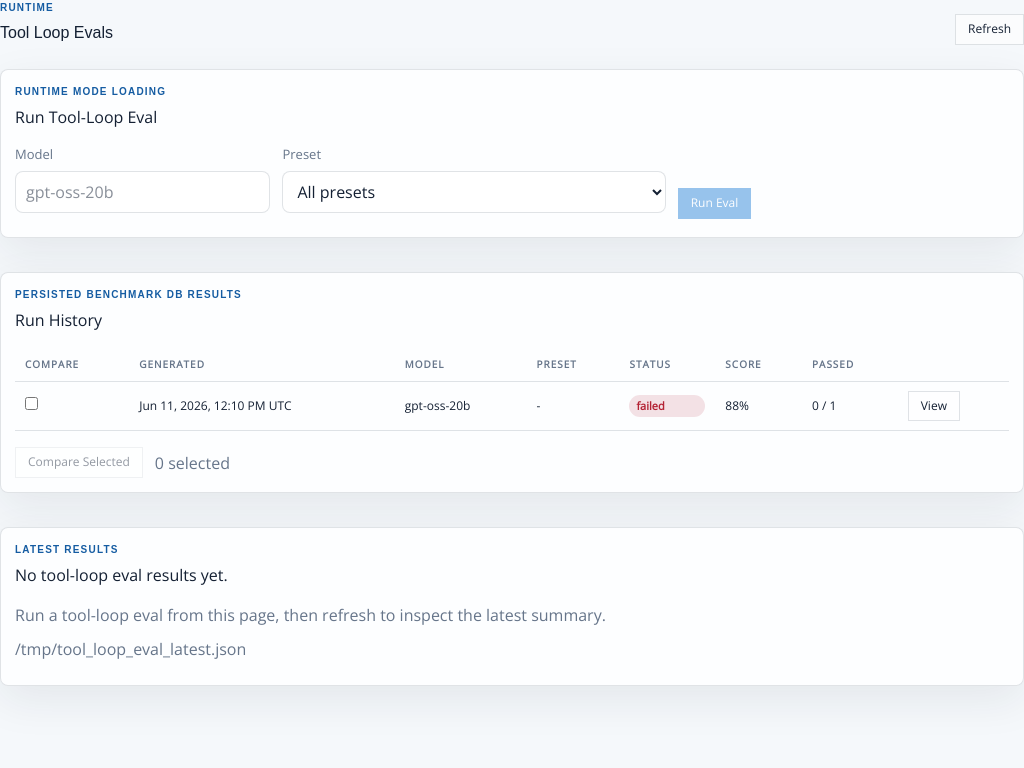
Test case: renders required tool and artifact diagnostics for persisted run cases
The image size is (1024, 768).
Step 1. Click the button with aria-label "View run gpt-oss-20b" → (934, 406), box x1=908 y1=390 x2=960 y2=421
(page scrolled)
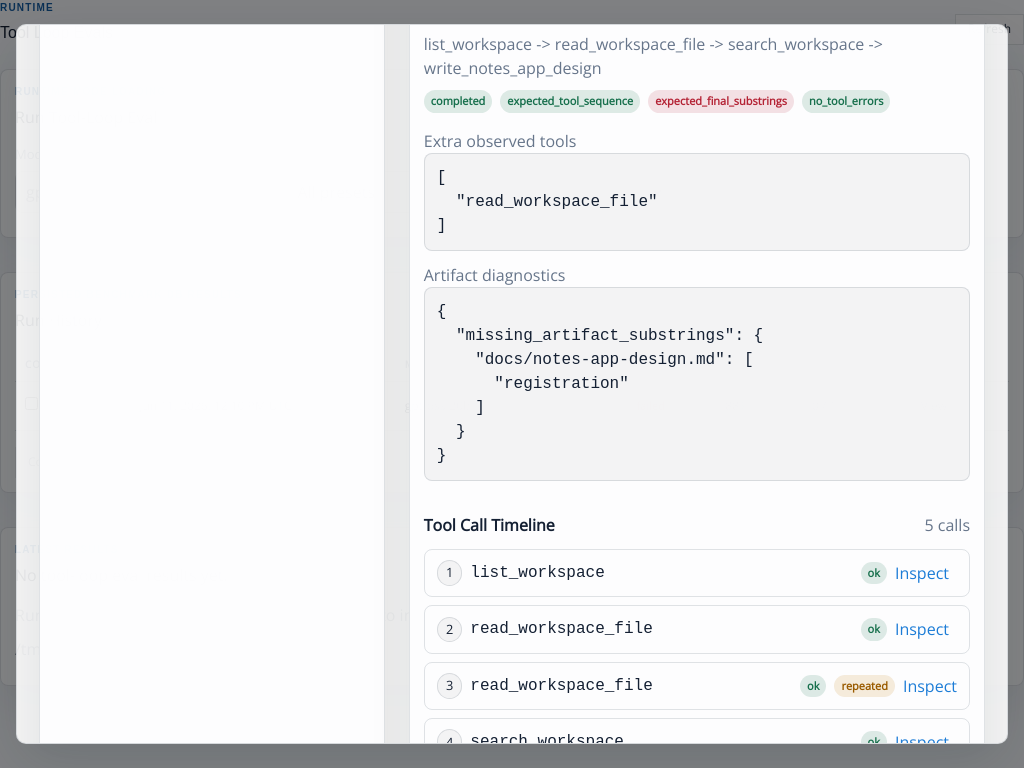
Check: the element named "Case diagnostics" is shown, box x1=424 y1=129 x2=970 y2=481
Check: the text "Extra observed tools" is shown, box x1=424 y1=130 x2=576 y2=152
Check: the text "Artifact diagnostics" is shown, box x1=424 y1=264 x2=566 y2=286
